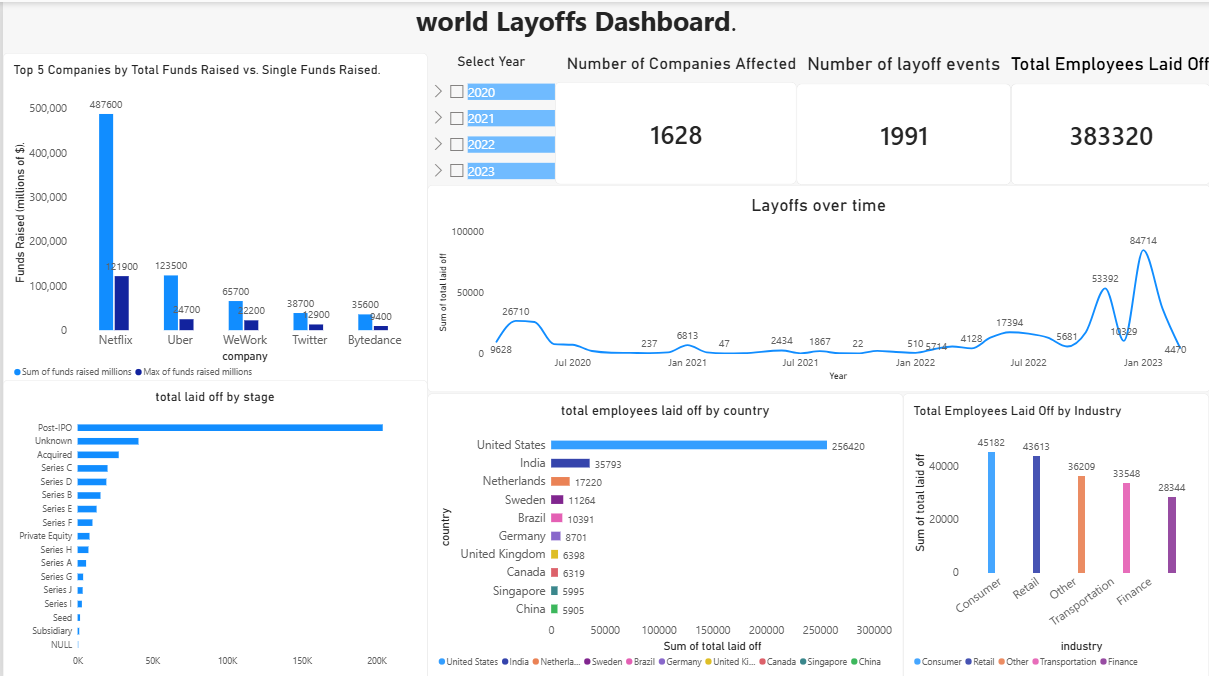

The page's visual inventory and layout, read from the dashboard file:
{"tool":"powerbi","page":{"name":"Page 1","canvas":[1920,1080],"ordinal":0},"visuals":[{"type":"clusteredColumnChart","title":"Top 5 Companies by Total Funds Raised vs. Single Funds Raised.","fields":{"Category":["layoffs_cleaned.company"],"Y":["Sum(layoffs_cleaned.funds raised millions)","Max(layoffs_cleaned.funds raised millions)"]},"box":[0,81.1,675.2,539.2],"z":0},{"type":"textbox","box":[10,290,280,280],"z":1000},{"type":"cardVisual","title":"Total Employees Laid Off","fields":{"Data":["Sum(layoffs_cleaned.total laid off)"]},"box":[1603.3,81.1,317.3,210],"z":2000},{"type":"cardVisual","title":"Number of Companies Affected","fields":{"Data":["Count(layoffs_cleaned.company)"]},"box":[878,81.1,384.1,210],"z":3000},{"type":"cardVisual","title":"Number of layoff events","fields":{"Data":["CountNonNull(layoffs_cleaned.company)"]},"box":[1262.1,81.1,341.2,210],"z":4000},{"type":"clusteredColumnChart","title":"Total Employees Laid Off by Industry","fields":{"Category":["layoffs_cleaned.industry"],"Series":["layoffs_cleaned.industry"],"Y":["Sum(layoffs_cleaned.total laid off)"]},"box":[1431.5,622.7,486.7,458.1],"z":5000},{"type":"lineChart","title":"Layoffs over time","fields":{"Category":["layoffs_cleaned.date.Variation.Date Hierarchy.Year","layoffs_cleaned.date.Variation.Date Hierarchy.Month"],"Y":["Sum(layoffs_cleaned.total laid off)"]},"box":[675.2,291.1,1245.4,329.3],"z":6000},{"type":"slicer","title":"Select Year","fields":{"Values":["layoffs_cleaned.date.Variation.Date Hierarchy.Year","layoffs_cleaned.date.Variation.Date Hierarchy.Quarter","layoffs_cleaned.date.Variation.Date Hierarchy.Month","layoffs_cleaned.date.Variation.Date Hierarchy.Day"]},"box":[675.2,81.1,202.8,210],"z":7000},{"type":"barChart","title":"total employees laid off by country","fields":{"Category":["layoffs_cleaned.country"],"Series":["layoffs_cleaned.country"],"Y":["Sum(layoffs_cleaned.total laid off)"]},"box":[675.2,622.7,756.3,458.1],"z":8000},{"type":"barChart","title":"total laid off by stage","fields":{"Category":["layoffs_cleaned.stage"],"Y":["Sum(layoffs_cleaned.total laid off)"]},"box":[0,601.3,675.2,479.6],"z":9000},{"type":"textbox","box":[0,0,1166.7,93.1],"z":9001}]}

Visuals, with their boxes in screenshot pixels (x1, y1, x2, y2), scaled from the page's 1920x1080 canvas onto the 1209x676 screenshot:
"Top 5 Companies by Total Funds Raised vs. Single Funds Raised." clusteredColumnChart: (left=0, top=51, right=425, bottom=388)
textbox: (left=6, top=182, right=183, bottom=357)
"Total Employees Laid Off" cardVisual: (left=1010, top=51, right=1208, bottom=182)
"Number of Companies Affected" cardVisual: (left=553, top=51, right=795, bottom=182)
"Number of layoff events" cardVisual: (left=795, top=51, right=1010, bottom=182)
"Total Employees Laid Off by Industry" clusteredColumnChart: (left=901, top=390, right=1208, bottom=675)
"Layoffs over time" lineChart: (left=425, top=182, right=1208, bottom=388)
"Select Year" slicer: (left=425, top=51, right=553, bottom=182)
"total employees laid off by country" barChart: (left=425, top=390, right=901, bottom=675)
"total laid off by stage" barChart: (left=0, top=376, right=425, bottom=675)
textbox: (left=0, top=0, right=735, bottom=58)
